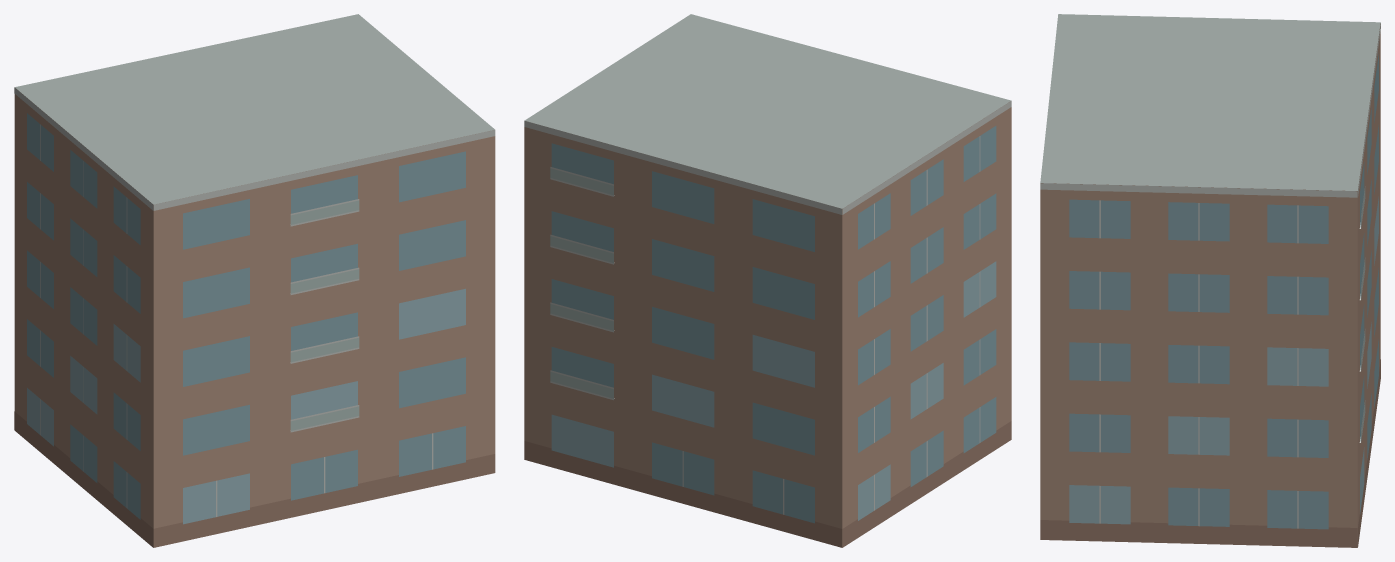
The model's file is survey-upis-32850261.glb.
The picture shows the model from 3 angles, left to right: view 1: azimuth 30°, elevation 25°; view 2: azimuth 150°, elevation 25°; view 3: azimuth 270°, elevation 25°; orthographic projection. The views are drawn at different scales.
Parts seen in each view (by area): view 1: survey-upis-32850261.tmp; view 2: survey-upis-32850261.tmp; view 3: survey-upis-32850261.tmp.
Boxes of the visible parts, <box> form: survey-upis-32850261.tmp: <box>14,14,495,547</box>; survey-upis-32850261.tmp: <box>524,14,1011,547</box>; survey-upis-32850261.tmp: <box>1040,14,1380,547</box>.
Bounding box in the file's own units: 14.06 × 13.2 × 11.43.
